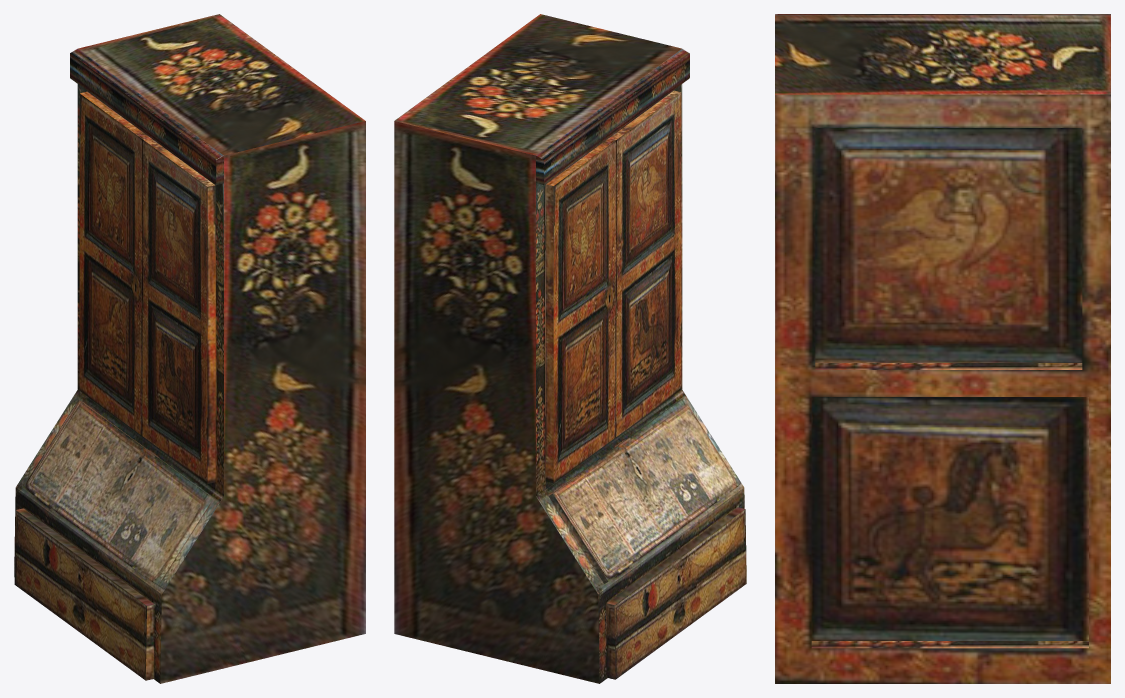
File: Wardrobe.obj
3 renders of one model, left to right at view 1: azimuth 30°, elevation 25°; view 2: azimuth 150°, elevation 25°; view 3: azimuth 270°, elevation 25°, orthographic. The views are drawn at different scales.
Parts seen in each view (by area): view 1: Mesh1 Model; view 2: Mesh1 Model; view 3: Mesh1 Model.
Part boxes in pixels (x1,y1,x2,y2): Mesh1 Model: (14, 14, 365, 683); Mesh1 Model: (394, 14, 746, 683); Mesh1 Model: (775, 14, 1110, 683).
Bounding box in the file's own units: 0.8264 × 1.9 × 0.9813.
2 materials, 1 textured.
